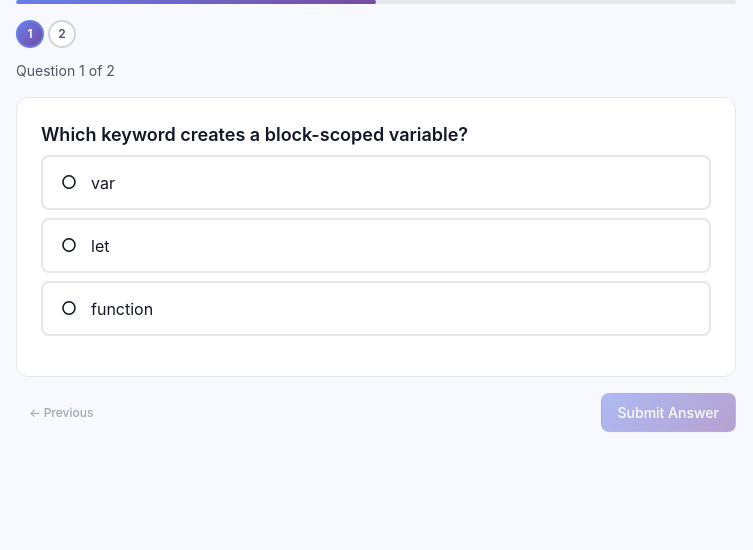
Test: QuizPanel › clicking Previous button goes back a question
What coordinates should you click on to do the following:
click the button "○ let"
I would click on:
 (69, 246)
Its box is [41, 218, 711, 273].
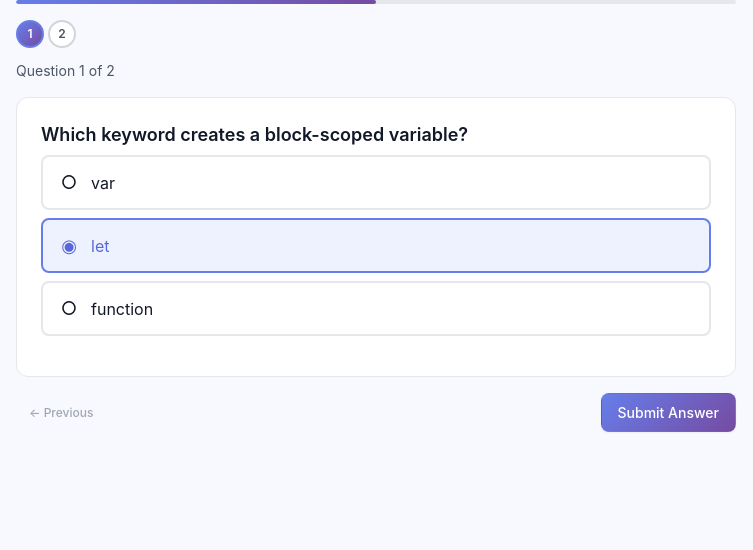
What coordinates should you click on to do the following:
click the button "Submit Answer"
I would click on:
 (668, 413)
Its box is [600, 393, 736, 432].
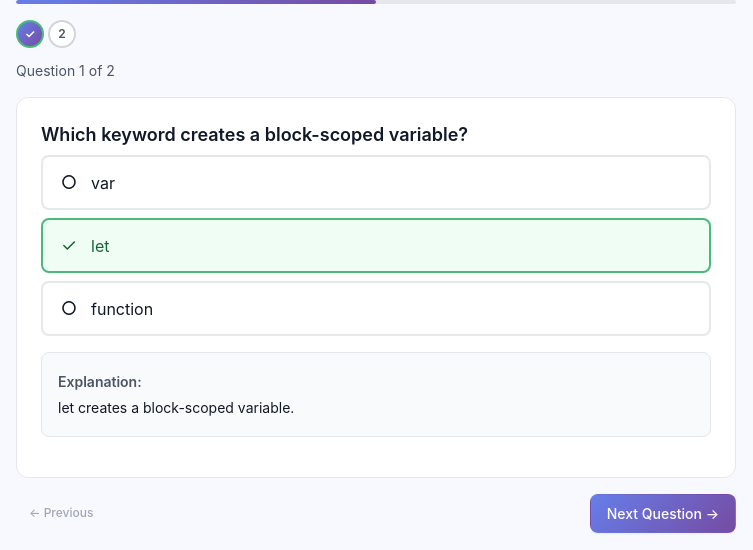
What coordinates should you click on to do the following:
click the button "Next Question →"
I would click on:
 (663, 513)
Its box is [590, 494, 736, 533].
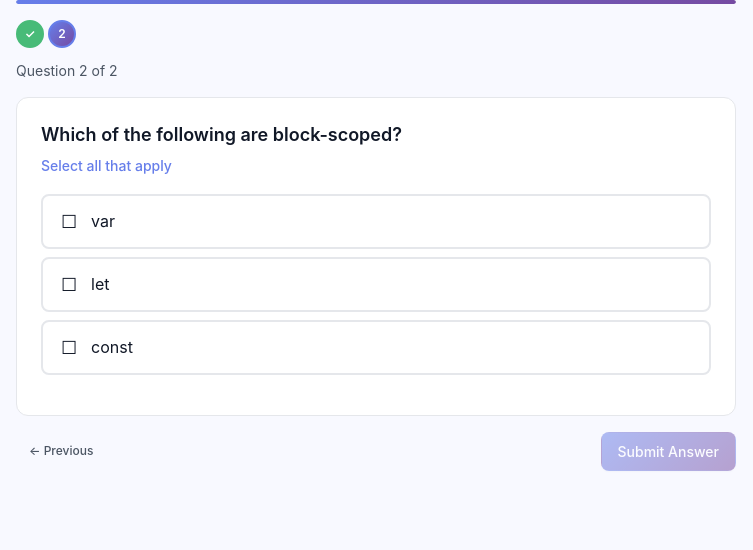
# Now on question 2 — go back
What coordinates should you click on to do the following:
click the button with aria-label "Previous question"
I would click on:
 (61, 451)
Its box is [16, 437, 106, 465].
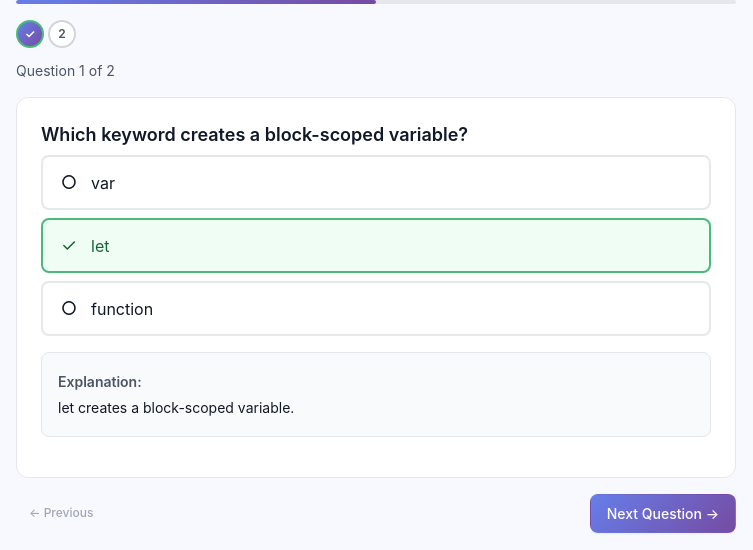
Now the text "Question 1 of 2" is shown, box [16, 62, 115, 79]
